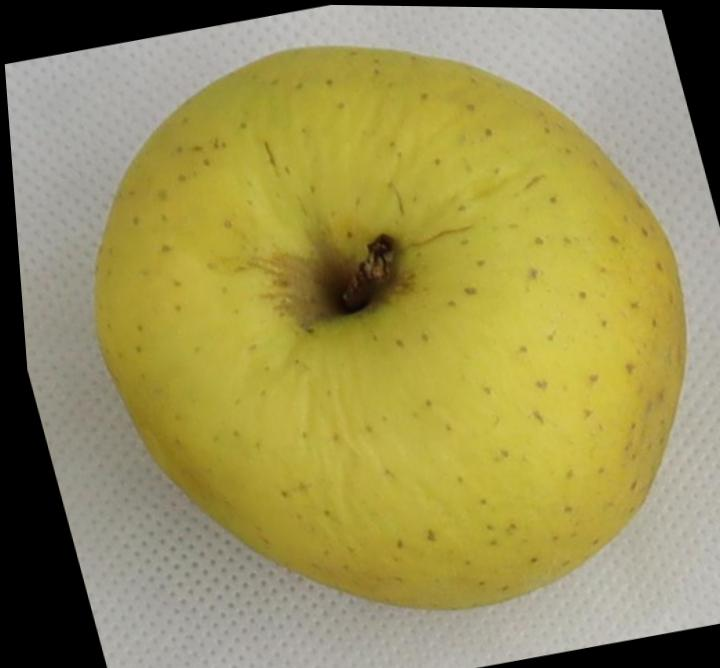apple: (96, 47, 685, 607)
